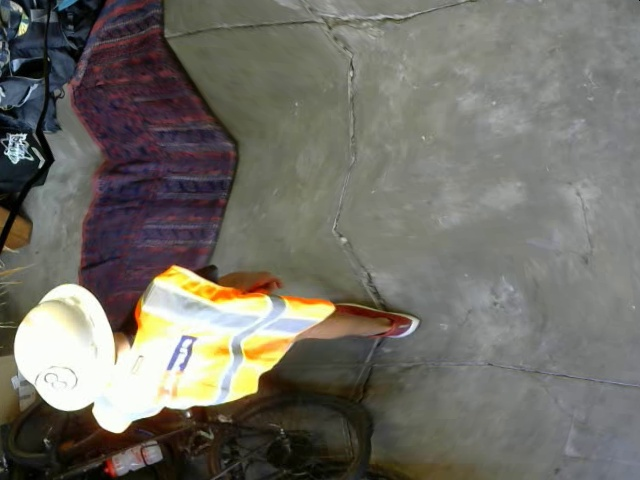eight: (36, 362, 79, 398)
